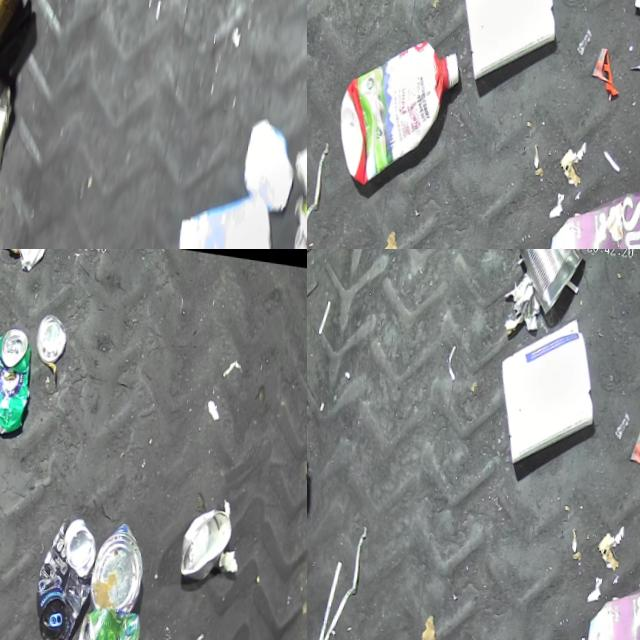can: (33, 504, 105, 640), (91, 512, 153, 606), (506, 249, 585, 312), (181, 491, 238, 573), (0, 316, 37, 431), (77, 595, 145, 640), (0, 70, 21, 178), (34, 305, 70, 358), (287, 184, 307, 249)
non_white_jug: (585, 547, 640, 640)
